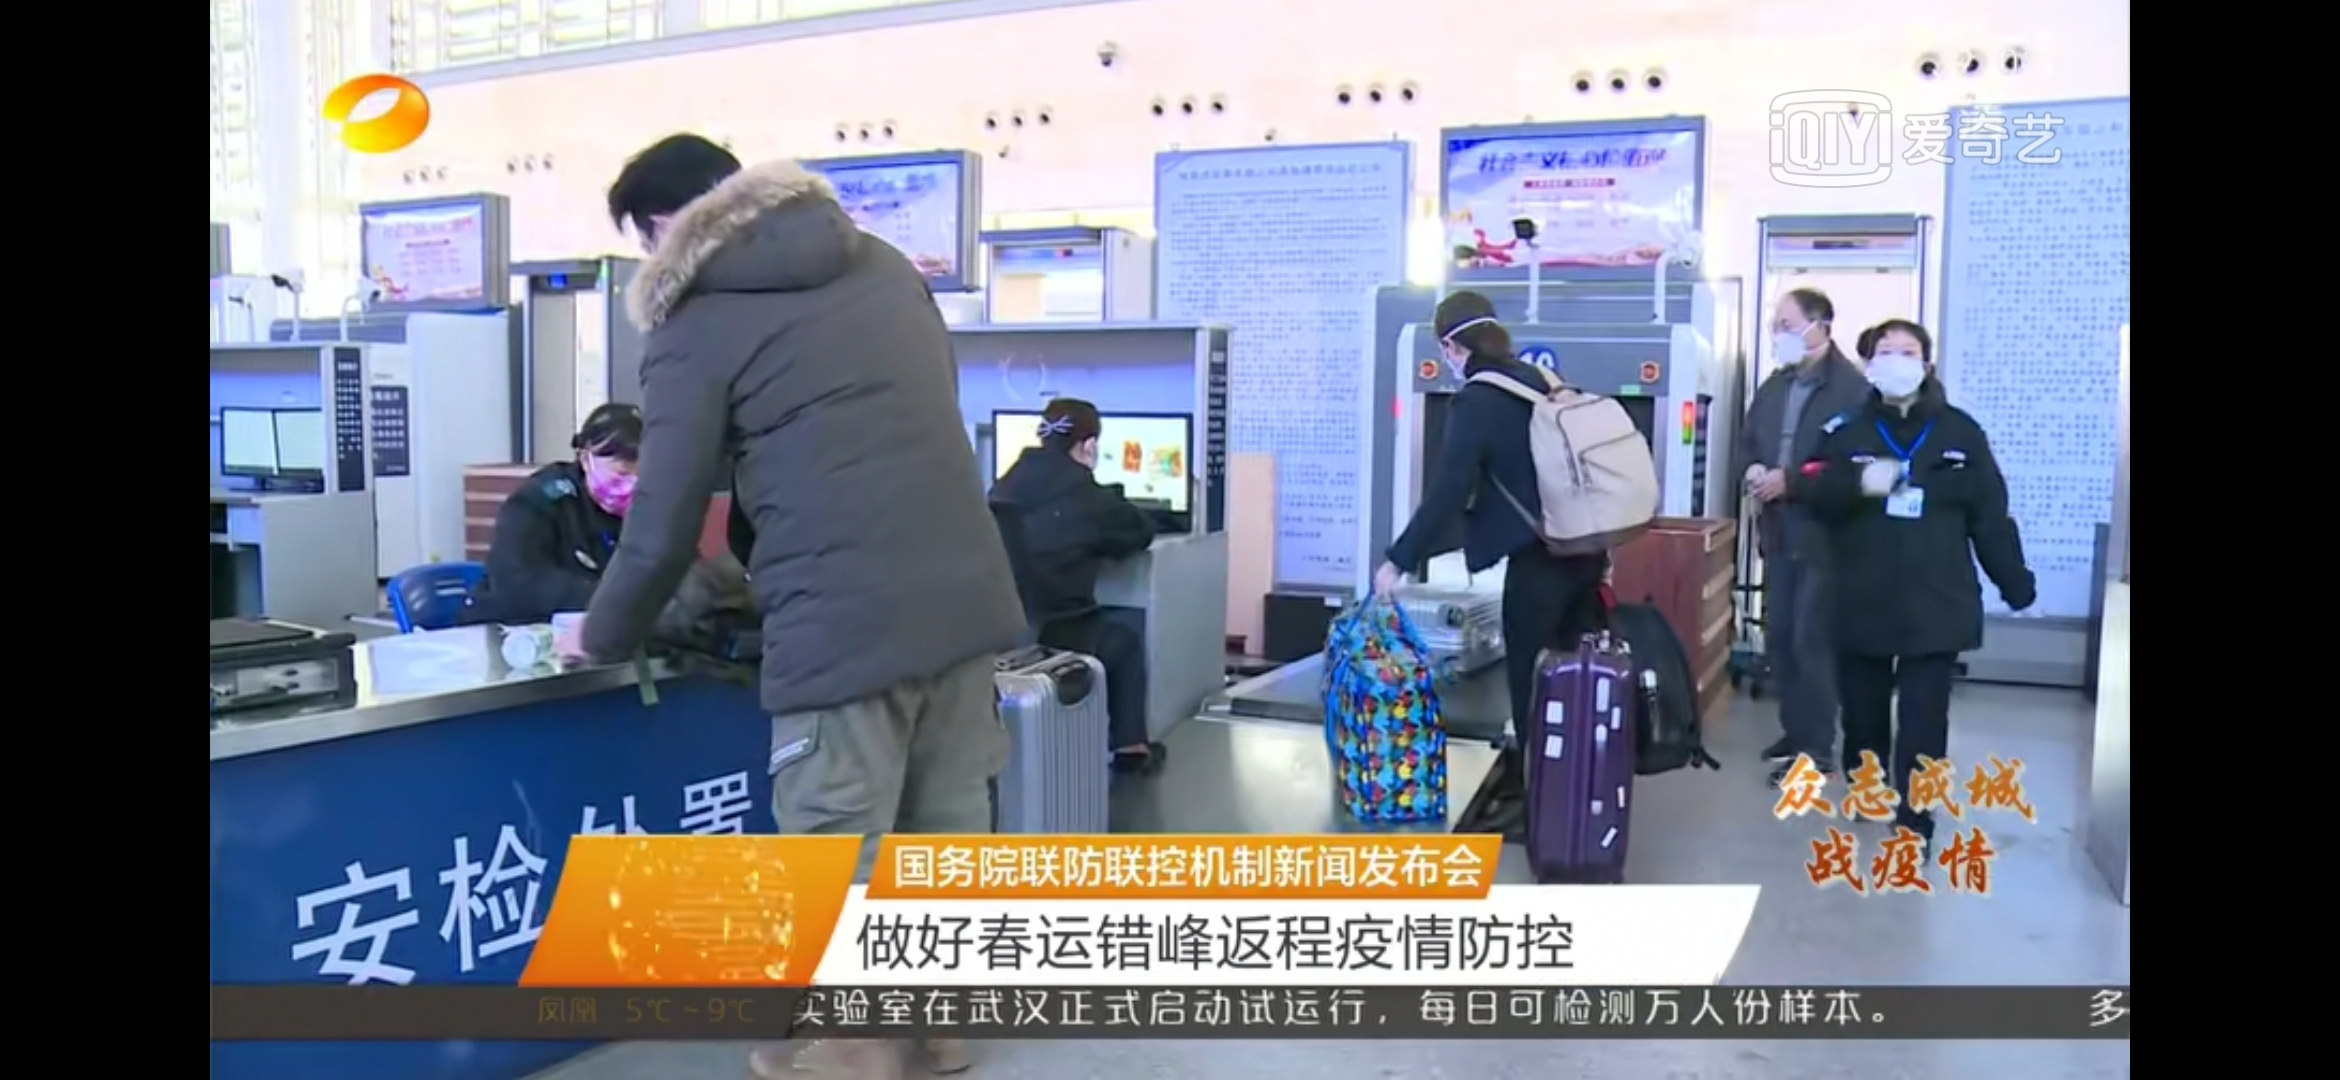correctlyWear: (575, 428, 648, 515), (1868, 333, 1931, 395), (1770, 309, 1834, 370), (1436, 330, 1471, 380)
